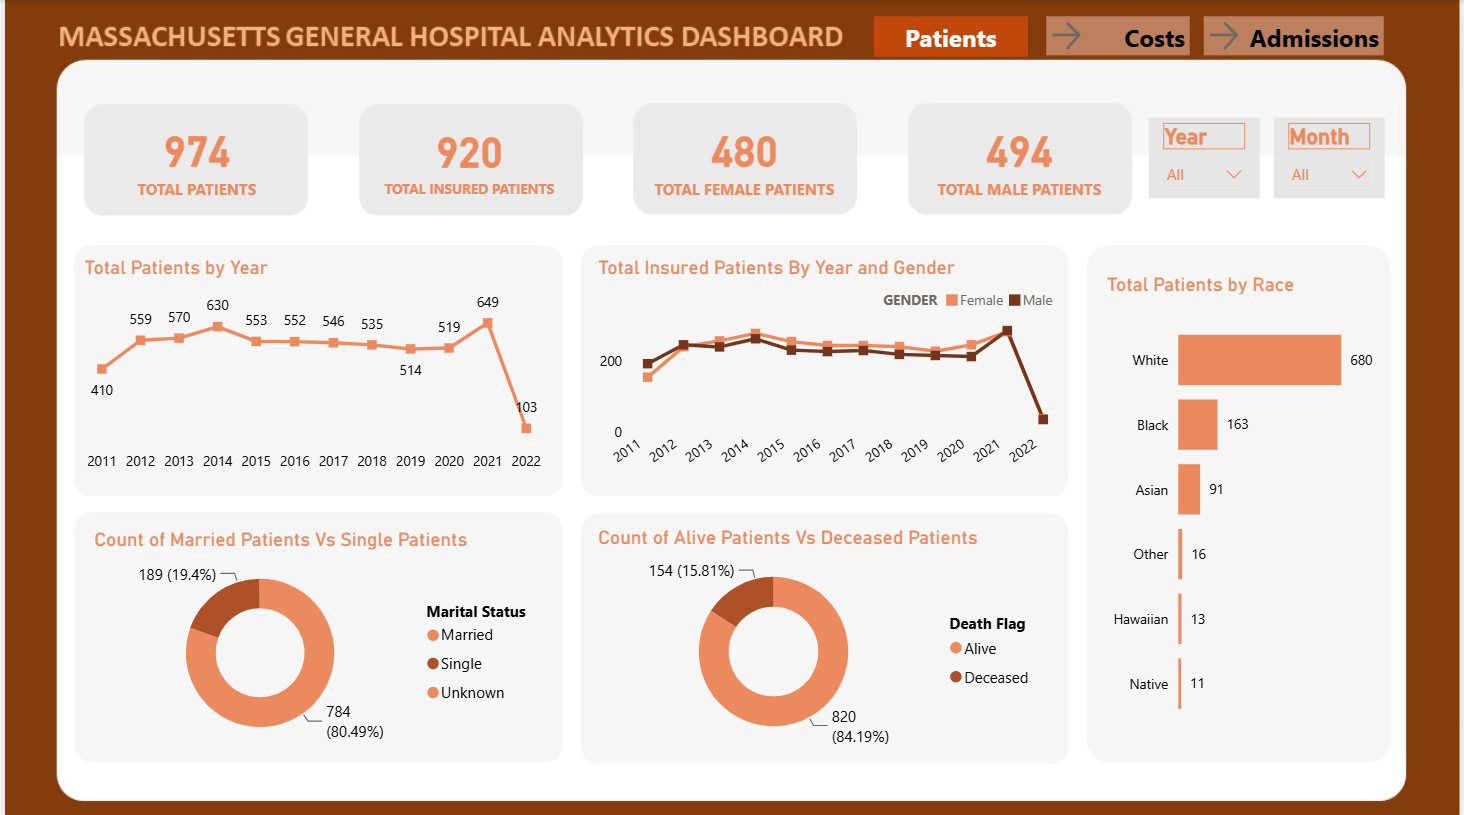

The dashboard page shown, as its layout file describes it:
{"tool":"powerbi","page":{"name":"Patients ","canvas":[1280,720],"ordinal":0},"visuals":[{"type":"card","fields":{"Values":["patients.TOTAL MALE PATIENTS"]},"box":[805.5,97.4,172.9,82.3],"z":0},{"type":"card","fields":{"Values":["Count(patients.PATIENT_ID)"]},"box":[82.3,97.4,172.9,82.3],"z":1000},{"type":"card","fields":{"Values":["patients.Number of Insured Patients"]},"box":[322.5,97.4,172.9,82.3],"z":2000},{"type":"card","fields":{"Values":["patients.TOTAL FEMALE PATIENTS"]},"box":[564,97.4,172.9,82.3],"z":3000},{"type":"donutChart","title":"Count of Alive Patients Vs Deceased Patients","fields":{"Category":["patients.Death Flag"],"Y":["CountNonNull(patients.Death Flag)"]},"box":[517.3,462.4,404.8,201.7],"z":4000},{"type":"clusteredBarChart","title":"Total Patients by Race","fields":{"Category":["patients.RACE"],"Y":["CountNonNull(patients.RACE)"]},"box":[964.7,240.1,244.3,413],"z":5000},{"type":"donutChart","title":"Count of Alive Patients Vs Deceased Patients","fields":{"Category":["patients.MARITAL_STATUS"],"Y":["CountNonNull(patients.MARITAL_STATUS)"]},"box":[74.1,463.8,404.8,201.7],"z":6000},{"type":"lineChart","title":"Total Insured Patients By Year and Gender","fields":{"Series":["patients.GENDER"],"Y":["patients.Number of Insured Patients"],"Category":["encounters.ENCOUNTER_START.Variation.Date Hierarchy.Year"]},"box":[517.3,225,414.4,203.1],"z":7000},{"type":"lineChart","title":"Total Patients by Year","fields":{"Y":["Count(encounters.PATIENT_ID)"],"Category":["encounters.ENCOUNTER_START.Variation.Date Hierarchy.Year"]},"box":[64.5,225,414.4,199],"z":8000},{"type":"slicer","fields":{"Values":["encounters.ENCOUNTER_START.Variation.Date Hierarchy.Year"]},"box":[1005.8,102.9,97.4,71.4],"z":9000},{"type":"slicer","fields":{"Values":["encounters.Month"]},"box":[1115.6,102.9,97.4,71.4],"z":10000},{"type":"actionButton","box":[859,13.7,146.8,35.7],"z":11000},{"type":"actionButton","box":[1029.2,13.7,170.2,35.7],"z":12000}]}

Visuals, with their boxes in screenshot pixels (x1, y1, x2, y2), scaled from the page's 1280x720 canvas onto the 1464x815 screenshot:
card - patients.TOTAL MALE PATIENTS: detection(921, 110, 1119, 203)
card - Count(patients.PATIENT_ID): detection(94, 110, 292, 203)
card - patients.Number of Insured Patients: detection(369, 110, 567, 203)
card - patients.TOTAL FEMALE PATIENTS: detection(645, 110, 843, 203)
"Count of Alive Patients Vs Deceased Patients" donutChart: detection(592, 523, 1055, 752)
"Total Patients by Race" clusteredBarChart: detection(1103, 272, 1383, 739)
"Count of Alive Patients Vs Deceased Patients" donutChart: detection(85, 525, 548, 753)
"Total Insured Patients By Year and Gender" lineChart: detection(592, 255, 1066, 485)
"Total Patients by Year" lineChart: detection(74, 255, 548, 480)
slicer - encounters.ENCOUNTER_START.Variation.Date Hierarchy.Year: detection(1150, 116, 1262, 197)
slicer - encounters.Month: detection(1276, 116, 1387, 197)
actionButton: detection(982, 16, 1150, 56)
actionButton: detection(1177, 16, 1372, 56)
